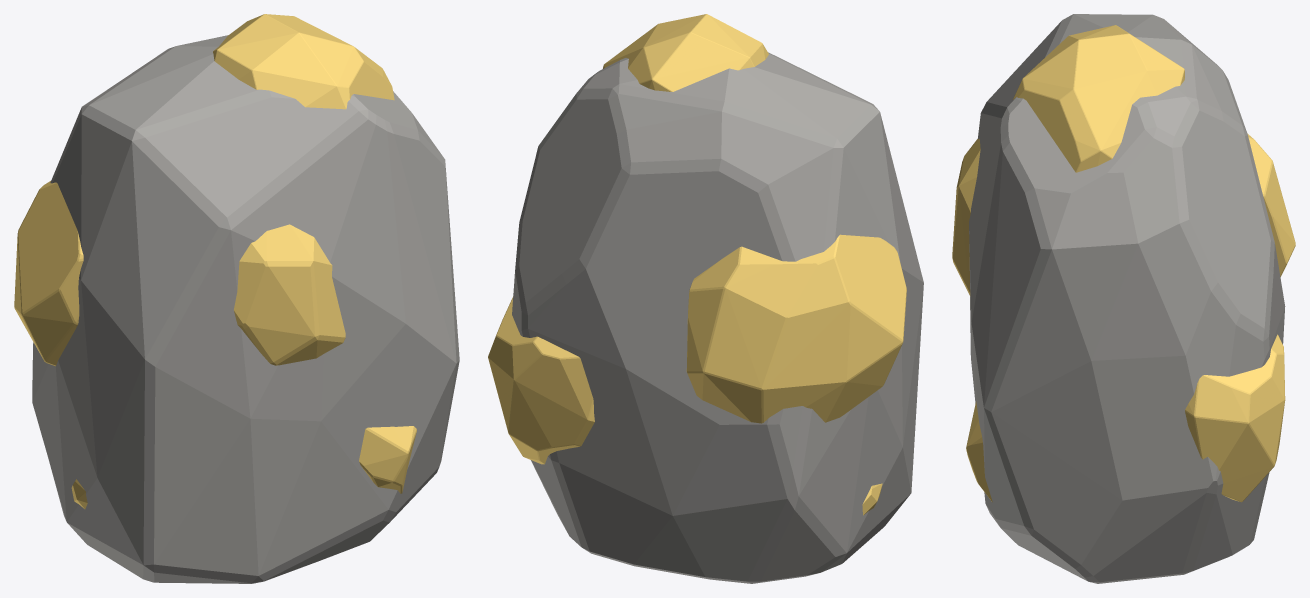
Rendered from ore_vein_gold.glb.
3 views of the same model, side by side, from view 1: azimuth 30°, elevation 25°; view 2: azimuth 150°, elevation 25°; view 3: azimuth 270°, elevation 25° (orthographic). The views are drawn at different scales.
Visible parts, largest first — view 1: OreVein_Gold_Rock, OreVein_Gold; view 2: OreVein_Gold_Rock, OreVein_Gold; view 3: OreVein_Gold_Rock, OreVein_Gold.
Boxes of the visible parts, x1=… form: OreVein_Gold_Rock: x1=32, y1=35, x2=459, y2=583; OreVein_Gold: x1=14, y1=14, x2=416, y2=509; OreVein_Gold_Rock: x1=512, y1=52, x2=923, y2=583; OreVein_Gold: x1=488, y1=14, x2=906, y2=515; OreVein_Gold_Rock: x1=969, y1=14, x2=1285, y2=583; OreVein_Gold: x1=952, y1=25, x2=1295, y2=502.
Size of the model in its own units: 1.05 by 1.29 by 0.8181.
